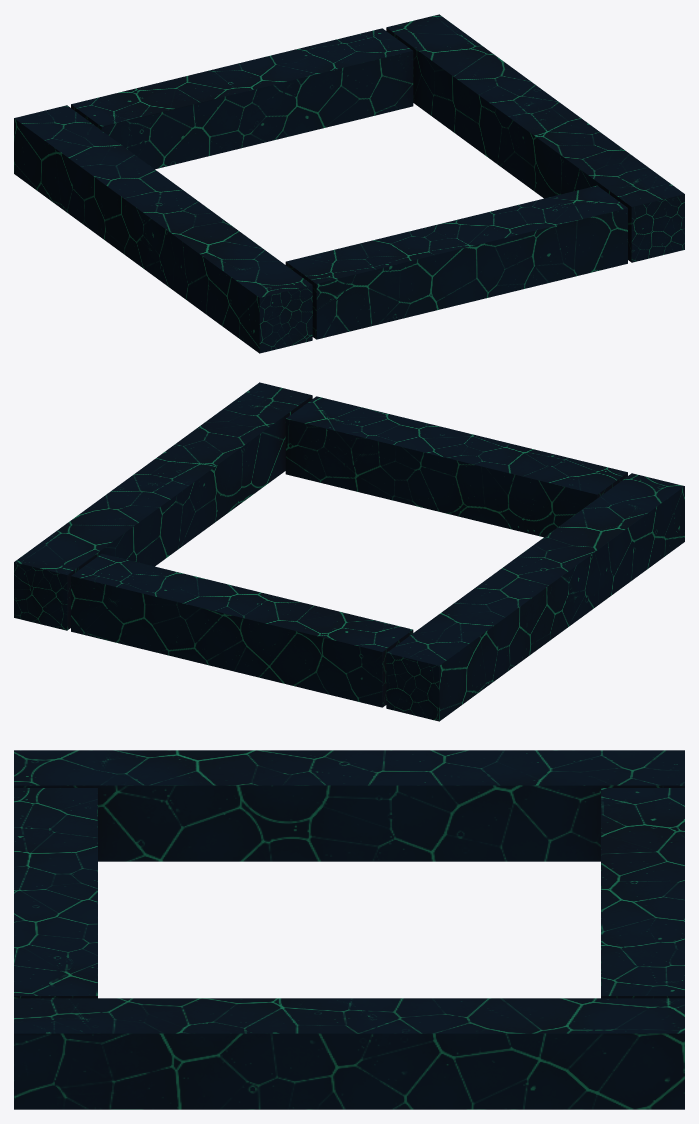
File: well.fbx
3 views of the same model, one above another, from view 1: azimuth 30°, elevation 25°; view 2: azimuth 150°, elevation 25°; view 3: azimuth 270°, elevation 25° (orthographic). The views are drawn at different scales.
Visible parts, largest first — view 1: border_2, border_3, border_1, border_0; view 2: border_2, border_1, border_3, border_0; view 3: border_0, border_2, border_1, border_3.
Boxes of the visible parts, <box> form: border_2: <box>14,105,312,353</box>; border_3: <box>285,185,627,339</box>; border_1: <box>71,28,413,169</box>; border_0: <box>386,14,684,262</box>; border_2: <box>386,473,684,721</box>; border_1: <box>71,553,413,707</box>; border_3: <box>285,396,627,537</box>; border_0: <box>14,382,312,630</box>; border_0: <box>14,998,684,1109</box>; border_2: <box>14,750,684,861</box>; border_1: <box>601,788,684,998</box>; border_3: <box>14,788,97,998</box>.
Bounding box in the file's own units: 8 × 1 × 8.
Materials: 1 (1 with a texture image).
